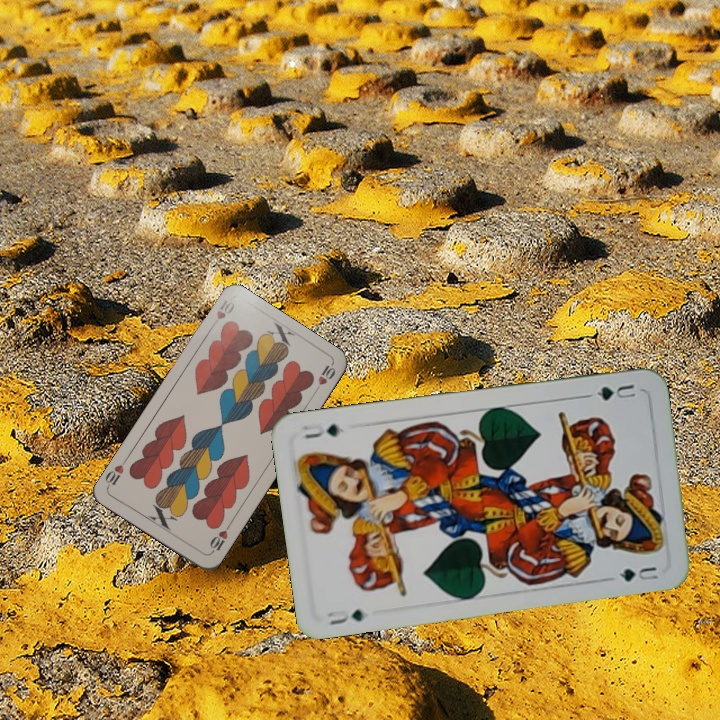GU: (593, 380, 639, 404), (323, 605, 366, 627)
H10: (206, 296, 237, 332), (205, 520, 233, 556)
